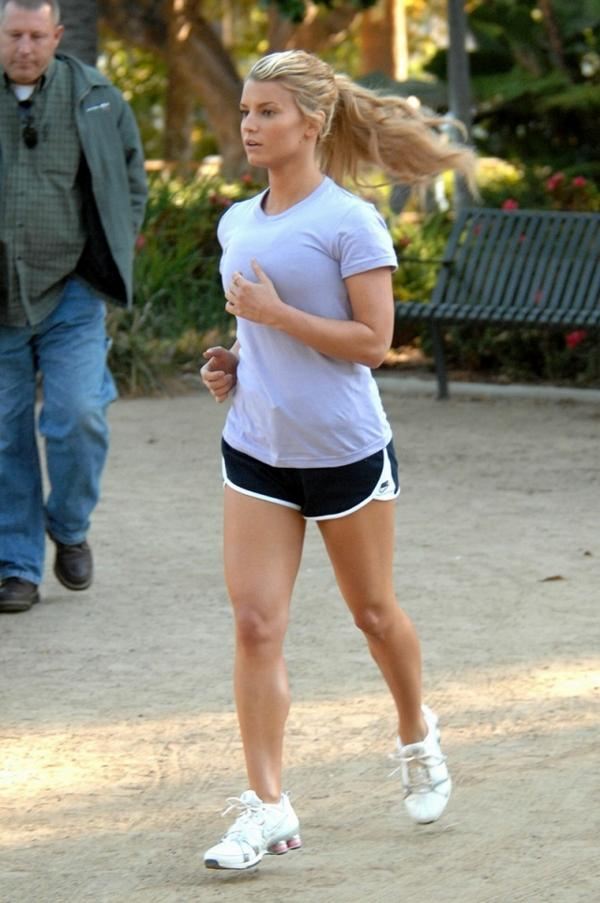person: (198, 52, 524, 878)
